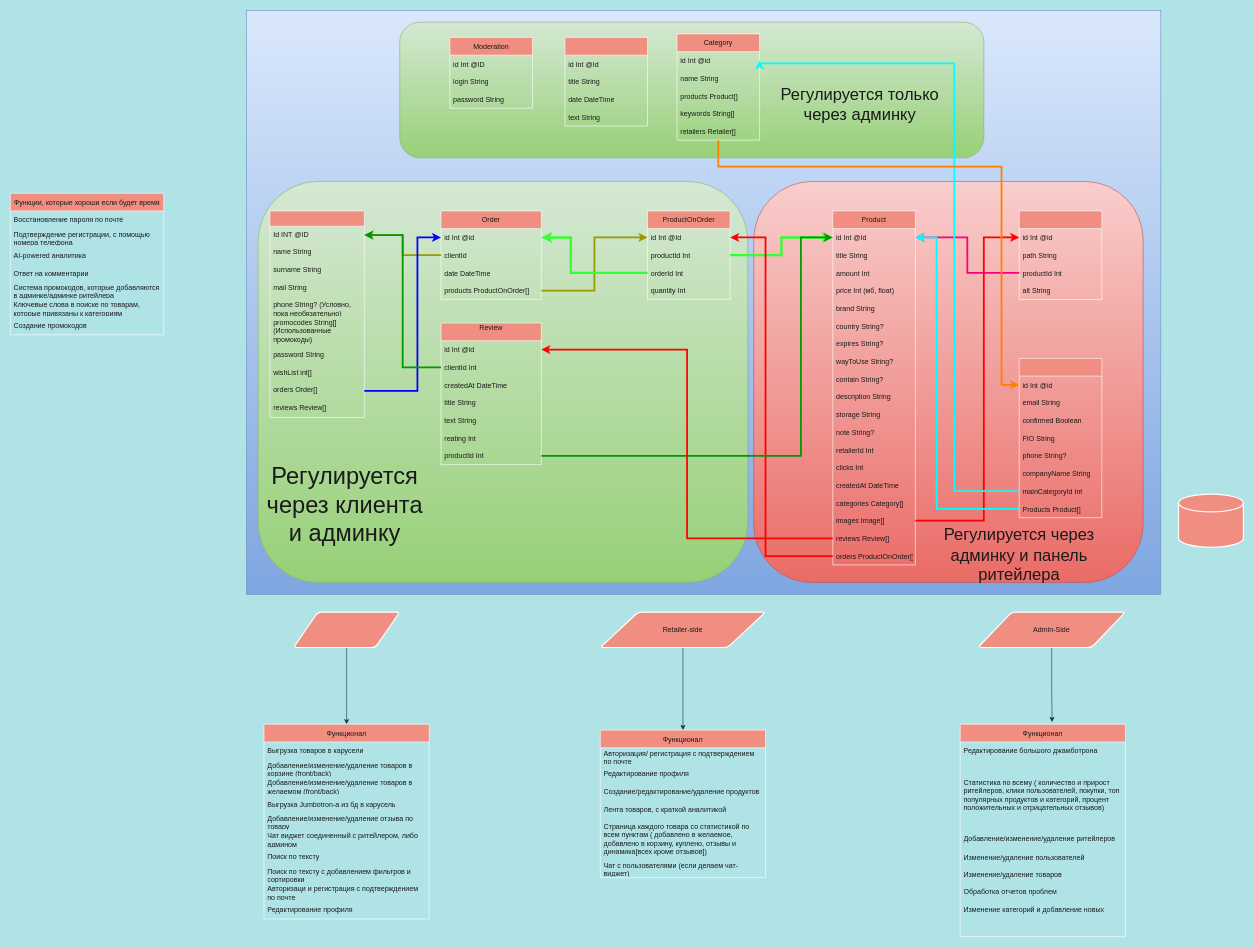
The diagram is 1254 pixels wide and 947 high, and some of its shapes have lost their labels. Each missing label, with the box of its shape:
Client (Он же юзер): (269, 210, 364, 417)
Client-side: (293, 611, 400, 648)
Image: (1019, 210, 1102, 299)
Report: (564, 37, 648, 126)
Retailer: (1019, 358, 1102, 518)
Общая БД: (1178, 493, 1244, 548)
